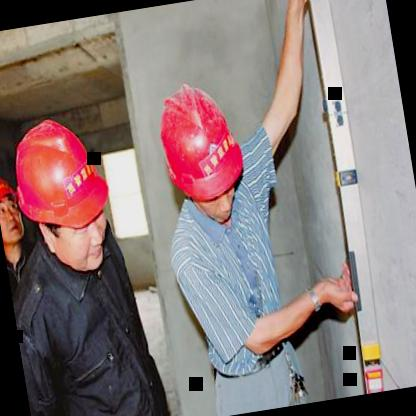helmet: (2, 101, 128, 286), (140, 67, 254, 237), (0, 164, 27, 248)
